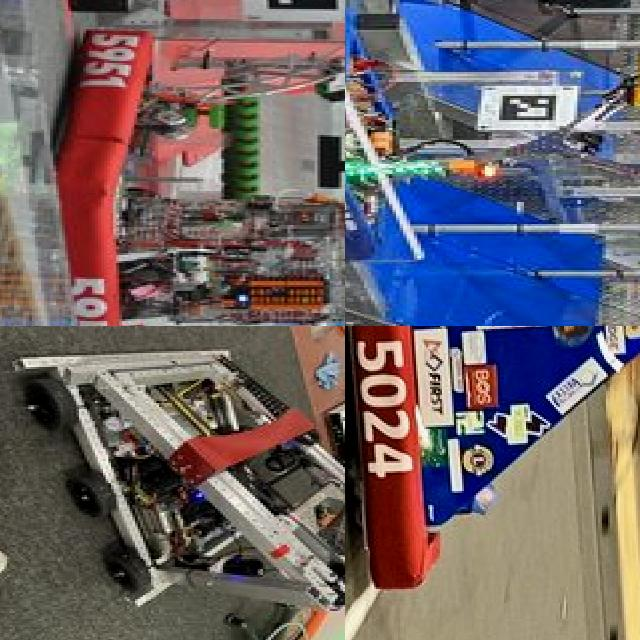FRC-Robots: (345, 0, 640, 318), (34, 326, 345, 627), (63, 0, 345, 326), (345, 326, 640, 594)
